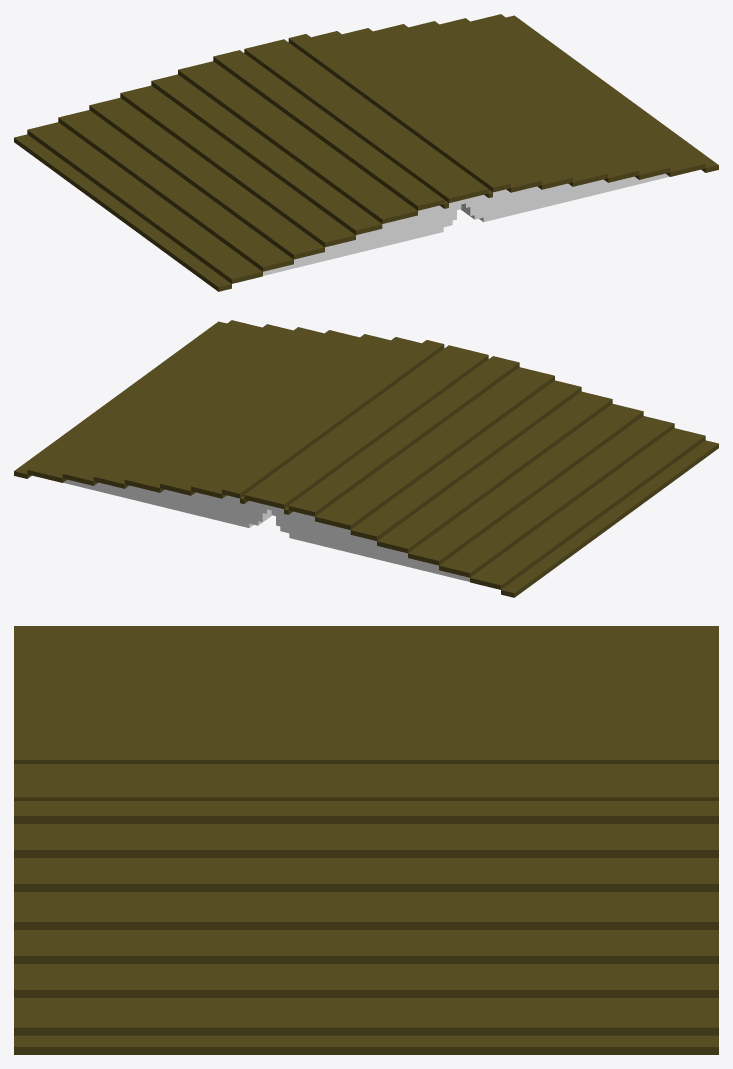
File: Book2-1.fbx
3 views of the same model, one above another, from view 1: azimuth 30°, elevation 25°; view 2: azimuth 150°, elevation 25°; view 3: azimuth 270°, elevation 25° (orthographic). The views are drawn at different scales.
Parts seen in each view (by area): view 1: Book2-1.001; view 2: Book2-1.001; view 3: Book2-1.001.
Boxes of the visible parts, x1,y1,x2,y2 form: Book2-1.001: (14,14,718,291); Book2-1.001: (14,320,718,597); Book2-1.001: (14,626,718,1054).
Size of the model in its own units: 11.3 by 0.8 by 8.
